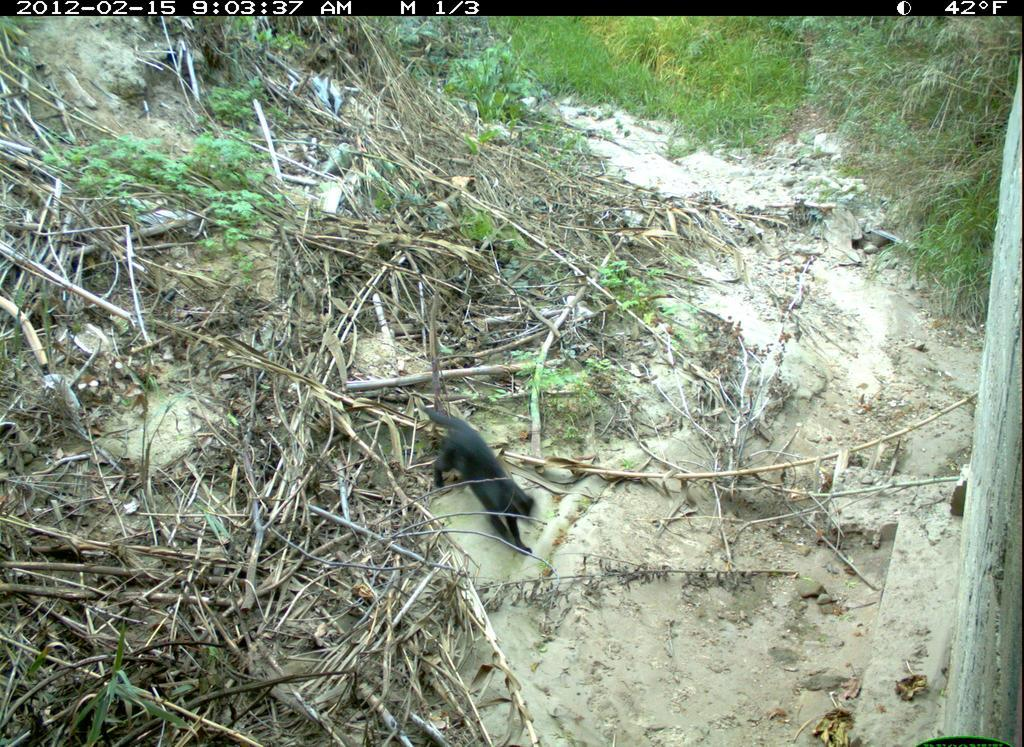cat: (411, 391, 560, 563)
